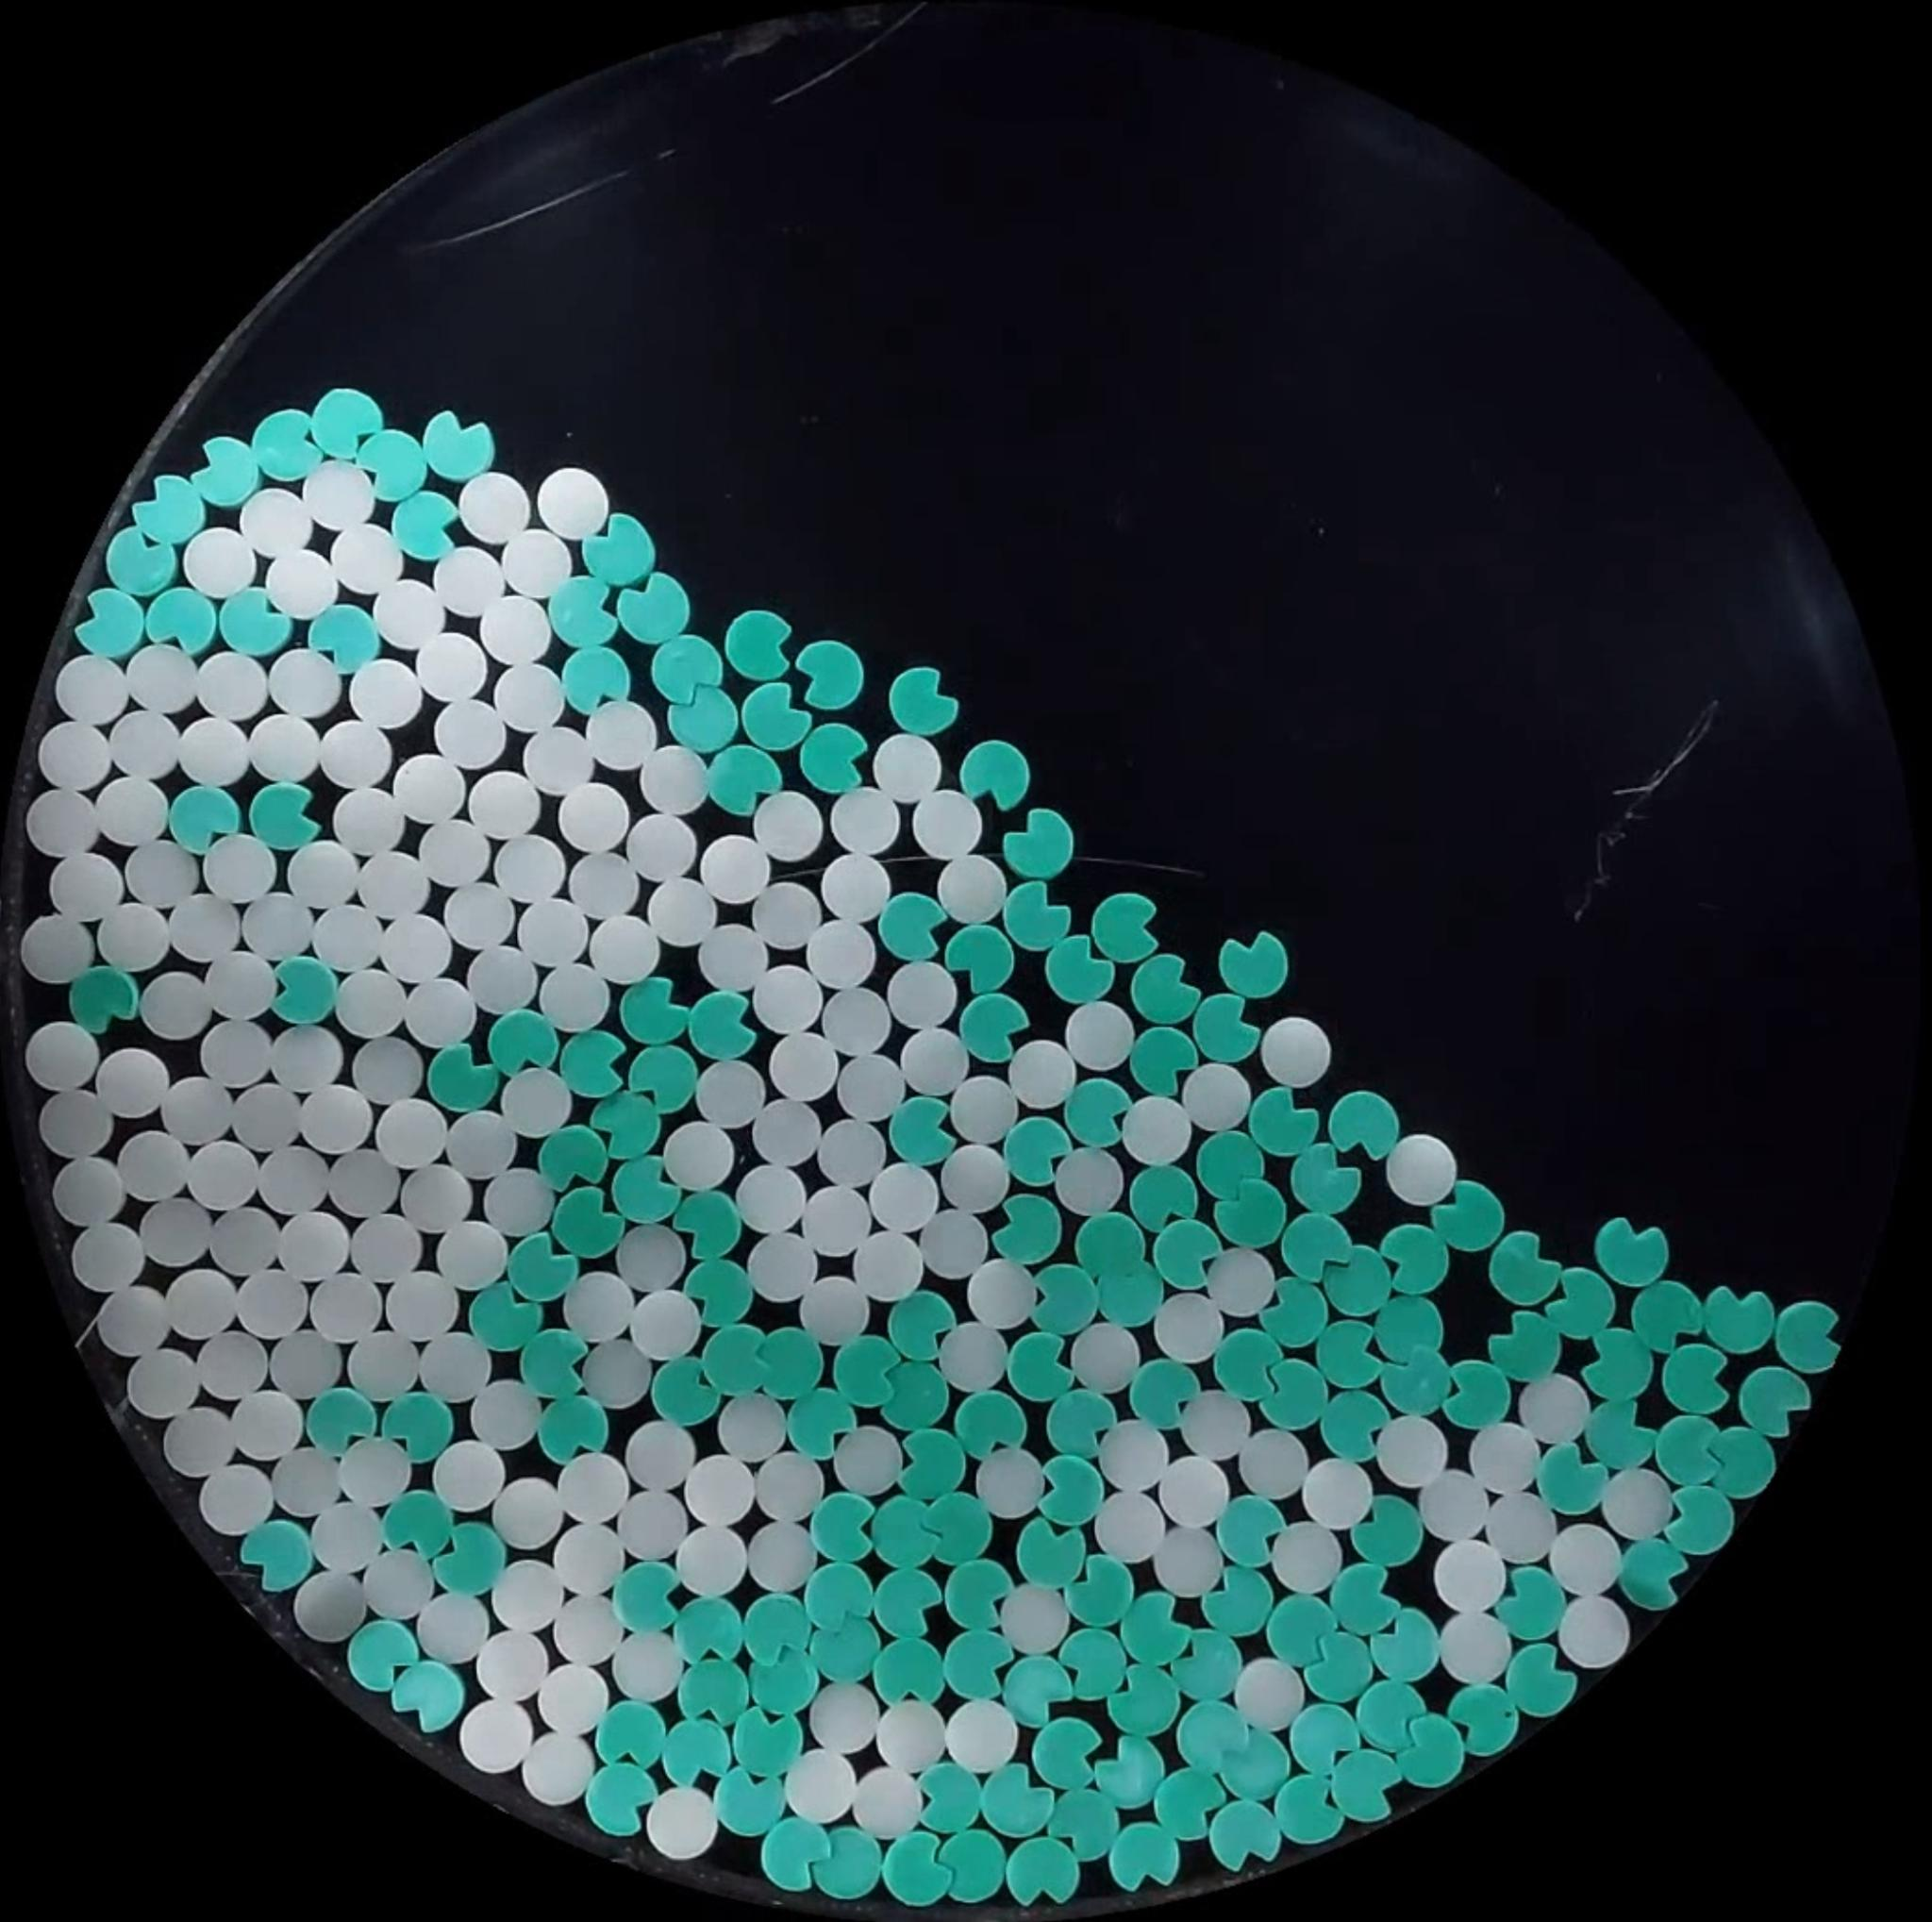disco-pmma: (187, 1320, 273, 1405), (266, 1322, 350, 1408), (545, 1588, 626, 1674), (609, 1486, 697, 1565), (911, 1204, 994, 1287), (436, 880, 528, 954), (465, 1630, 553, 1706), (1471, 1420, 1555, 1498), (519, 1727, 598, 1808), (37, 1086, 118, 1165), (327, 1141, 405, 1223), (343, 1214, 429, 1288), (354, 1317, 424, 1406), (795, 917, 878, 993), (1114, 1097, 1198, 1170), (194, 1461, 273, 1538), (681, 1454, 758, 1533), (457, 1695, 535, 1774), (882, 959, 959, 1038), (549, 1521, 628, 1598), (1054, 1148, 1133, 1225), (69, 1220, 146, 1297), (257, 1139, 334, 1216), (139, 1197, 216, 1274), (964, 1253, 1042, 1331), (415, 1331, 494, 1406), (875, 1698, 950, 1778), (106, 706, 185, 781), (35, 718, 114, 794), (699, 1054, 774, 1133), (943, 1070, 1022, 1146), (489, 1559, 567, 1635), (644, 1783, 720, 1860), (1480, 1487, 1557, 1563), (225, 1389, 303, 1464), (245, 713, 322, 789), (415, 1589, 493, 1665), (1554, 1593, 1631, 1669), (491, 1475, 568, 1551), (127, 1343, 202, 1420), (25, 785, 102, 861), (53, 653, 130, 729), (97, 1281, 172, 1359), (801, 1183, 878, 1258), (1413, 1470, 1490, 1545), (931, 1318, 1012, 1390), (431, 1438, 507, 1514), (354, 848, 429, 924), (1599, 1466, 1675, 1542), (308, 1271, 384, 1346), (347, 657, 422, 732), (1432, 1538, 1508, 1614), (306, 896, 382, 972), (202, 949, 280, 1023), (1372, 1413, 1446, 1491), (162, 1265, 239, 1339), (93, 1045, 171, 1119), (535, 1662, 612, 1735), (292, 1568, 370, 1642), (1175, 1392, 1255, 1464), (310, 1500, 385, 1574), (95, 899, 171, 973), (556, 1452, 632, 1526), (329, 523, 405, 597), (674, 1522, 750, 1596), (493, 660, 568, 734), (1300, 1457, 1374, 1533), (516, 896, 591, 970), (769, 1030, 845, 1104), (274, 1209, 350, 1283), (287, 838, 362, 912), (269, 648, 345, 722), (123, 836, 199, 910), (317, 716, 392, 790), (176, 713, 252, 787), (375, 910, 450, 984), (1438, 1609, 1513, 1683), (1385, 1132, 1460, 1206), (116, 1128, 192, 1202), (19, 912, 95, 986), (51, 1155, 127, 1229), (241, 889, 315, 965), (160, 1072, 234, 1148), (663, 1119, 739, 1193), (139, 968, 216, 1040), (93, 774, 171, 847), (25, 1021, 102, 1093), (545, 954, 612, 1037), (392, 752, 466, 825), (384, 1269, 457, 1343), (628, 1288, 702, 1362), (1269, 1521, 1343, 1595), (945, 1698, 1019, 1772), (785, 1750, 859, 1823), (1154, 1454, 1228, 1528), (588, 910, 662, 984), (1519, 1371, 1592, 1445), (1550, 1521, 1624, 1595), (938, 1141, 1012, 1214), (334, 966, 410, 1038), (399, 975, 475, 1047), (296, 1082, 371, 1155), (375, 1098, 450, 1170), (524, 723, 600, 796), (433, 1218, 509, 1290), (201, 833, 276, 905), (419, 817, 494, 889), (415, 630, 491, 702), (194, 649, 269, 722), (457, 470, 533, 542), (537, 466, 612, 539), (44, 847, 120, 919), (746, 1229, 822, 1301), (635, 743, 711, 815), (820, 1118, 897, 1188), (264, 1023, 345, 1089), (751, 789, 825, 861), (867, 1162, 940, 1236), (586, 701, 660, 773), (808, 1681, 880, 1755), (623, 1420, 697, 1493), (333, 783, 406, 855), (1237, 1427, 1309, 1501), (1094, 1489, 1167, 1563), (558, 781, 632, 854), (236, 1264, 308, 1338), (433, 695, 507, 767), (716, 1390, 790, 1463), (303, 459, 377, 532), (1098, 1422, 1170, 1496), (371, 577, 445, 649), (611, 1630, 684, 1702), (1232, 1656, 1306, 1728), (1153, 1522, 1225, 1596), (162, 1399, 234, 1473), (267, 1441, 343, 1512), (735, 1162, 808, 1234), (183, 526, 255, 598), (699, 833, 771, 905), (1070, 1320, 1142, 1392), (852, 1764, 924, 1836), (998, 1582, 1070, 1654), (1260, 1014, 1332, 1086), (873, 732, 947, 803), (433, 546, 507, 616), (500, 528, 574, 598), (266, 547, 340, 618), (479, 595, 553, 665), (468, 769, 542, 840), (241, 488, 315, 558), (751, 1095, 825, 1165), (646, 880, 721, 949), (746, 878, 822, 947), (816, 989, 892, 1058), (396, 1163, 472, 1232), (751, 1452, 829, 1519), (466, 943, 538, 1014), (625, 811, 697, 882), (1006, 1037, 1077, 1109), (832, 1424, 903, 1496), (853, 1232, 924, 1304), (493, 833, 565, 903), (1153, 1290, 1225, 1361), (816, 852, 887, 924), (507, 1068, 577, 1141), (338, 1441, 410, 1512), (836, 1053, 908, 1123), (748, 1522, 818, 1595), (572, 850, 640, 924), (699, 922, 772, 991), (183, 1135, 257, 1204), (1181, 1061, 1251, 1132), (1066, 1000, 1137, 1070), (801, 1271, 871, 1341), (911, 790, 984, 859), (127, 642, 195, 715), (199, 1017, 271, 1086), (231, 1079, 303, 1148), (751, 965, 822, 1033), (348, 1035, 421, 1102), (208, 1197, 274, 1269), (447, 1114, 521, 1179), (931, 855, 1005, 921), (975, 1449, 1043, 1517), (852, 1762, 920, 1830), (831, 787, 901, 854), (579, 1336, 646, 1406), (1207, 1246, 1277, 1313), (375, 1547, 438, 1621), (164, 896, 238, 957), (625, 1230, 686, 1304), (473, 1375, 537, 1443), (897, 1026, 961, 1089), (496, 1172, 553, 1239), (575, 1273, 630, 1336)
